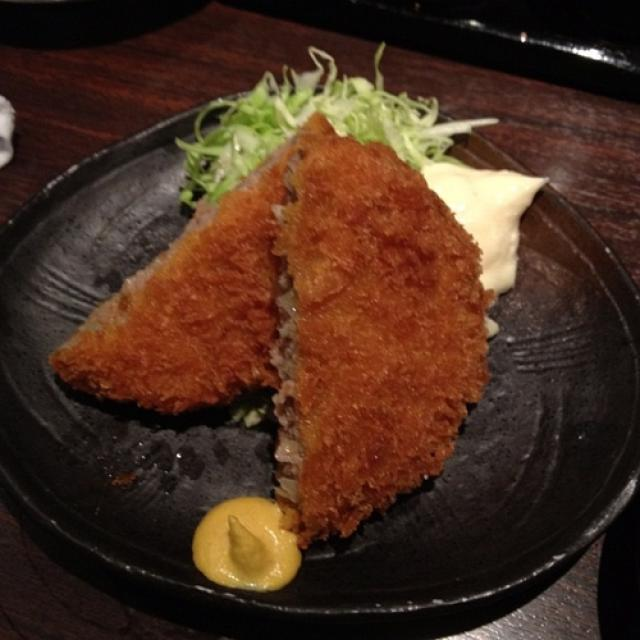炸货点心: (18, 53, 616, 604)
